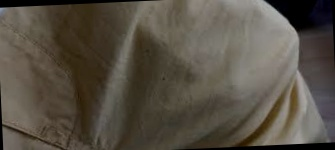oil: (174, 65, 230, 91)
